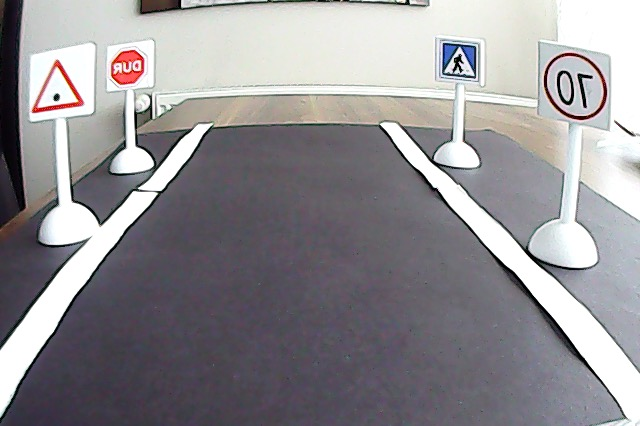green light: (550, 56, 611, 116)
pedestrian crossing: (160, 39, 202, 83)
speed limit 70: (34, 49, 98, 127)
stop sign: (489, 45, 532, 89)
